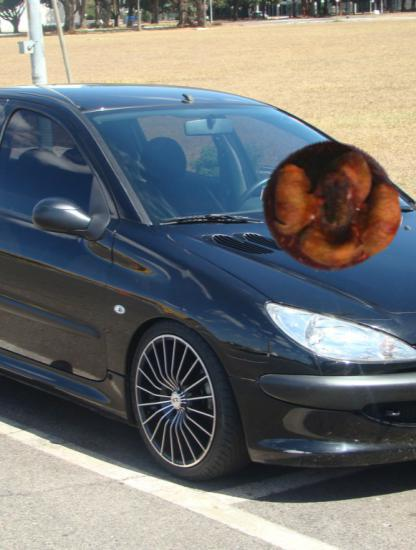Mangostan: (260, 136, 404, 280)
